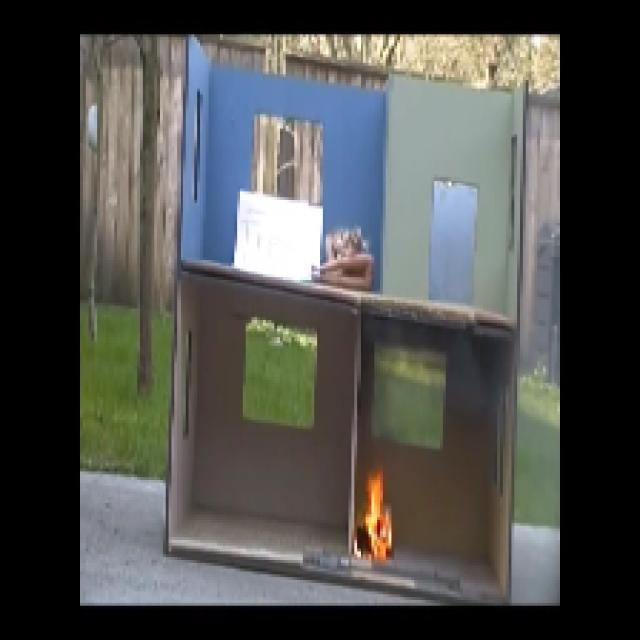fire: (352, 468, 394, 566)
